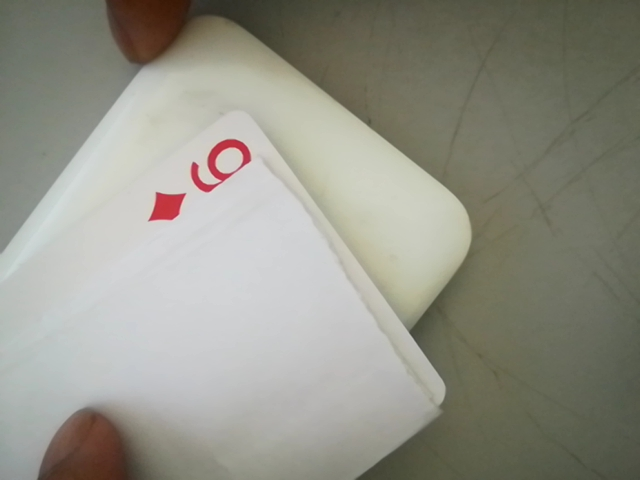fk 9: (136, 130, 268, 224)
